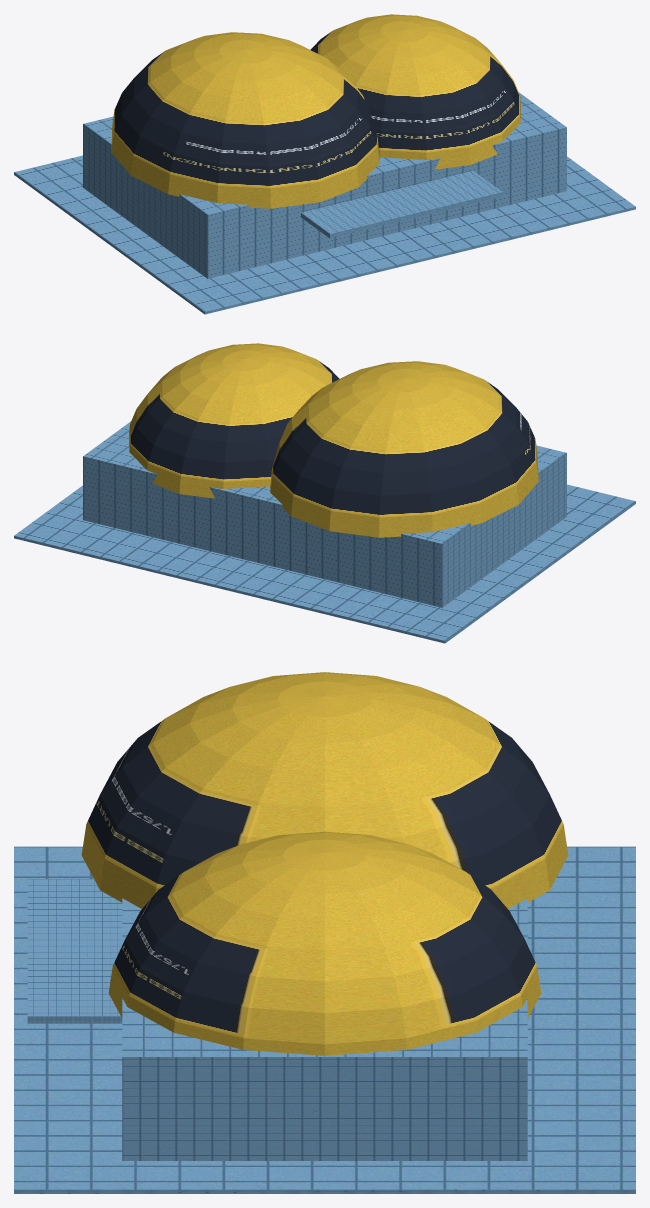
3 renders of one model, top to bottom at view 1: azimuth 30°, elevation 25°; view 2: azimuth 150°, elevation 25°; view 3: azimuth 270°, elevation 25°, orthographic. The views are drawn at different scales.
Visible parts, largest first — view 1: 28185_01_21989_005_02_lod2__pebble_mass, 28185_01_21989_005_03_lod2__glass_mass, 28185_01_21989_005_01_lod2__plaza_base, 28185_01_21989_005_04_lod2__canopy; view 2: 28185_01_21989_005_02_lod2__pebble_mass, 28185_01_21989_005_03_lod2__glass_mass, 28185_01_21989_005_01_lod2__plaza_base; view 3: 28185_01_21989_005_02_lod2__pebble_mass, 28185_01_21989_005_01_lod2__plaza_base, 28185_01_21989_005_03_lod2__glass_mass, 28185_01_21989_005_04_lod2__canopy.
Boxes of the visible parts, box(x1,y1,x2,y2) form: 28185_01_21989_005_02_lod2__pebble_mass: box(111, 14, 520, 208); 28185_01_21989_005_03_lod2__glass_mass: box(83, 92, 566, 278); 28185_01_21989_005_01_lod2__plaza_base: box(14, 155, 635, 314); 28185_01_21989_005_04_lod2__canopy: box(301, 171, 502, 238); 28185_01_21989_005_02_lod2__pebble_mass: box(129, 343, 538, 537); 28185_01_21989_005_03_lod2__glass_mass: box(83, 421, 566, 607); 28185_01_21989_005_01_lod2__plaza_base: box(14, 484, 635, 643); 28185_01_21989_005_02_lod2__pebble_mass: box(81, 672, 568, 1055); 28185_01_21989_005_01_lod2__plaza_base: box(14, 846, 635, 1193); 28185_01_21989_005_03_lod2__glass_mass: box(122, 898, 527, 1160); 28185_01_21989_005_04_lod2__canopy: box(27, 879, 122, 1023).
Size of the model in its own units: 60 by 21.5 by 46.
Materials: 4 (4 with a texture image).
